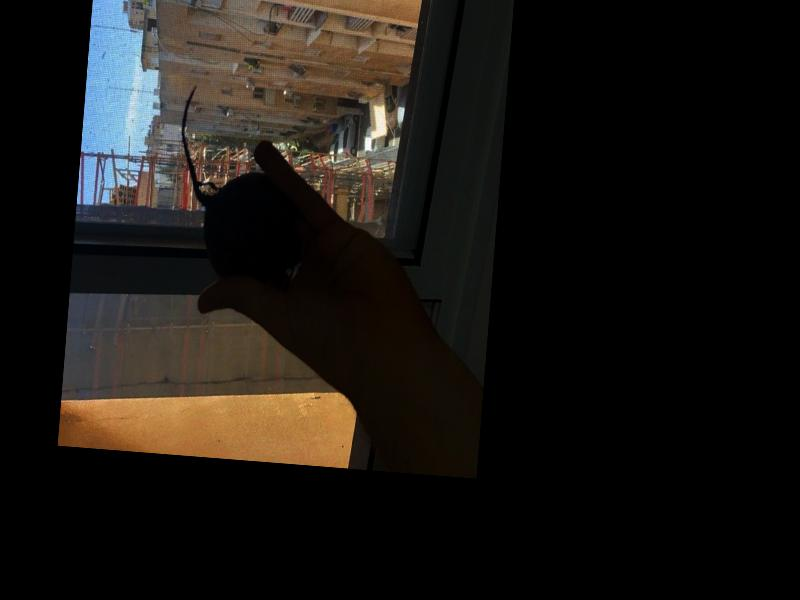Beet: (169, 83, 312, 282)
